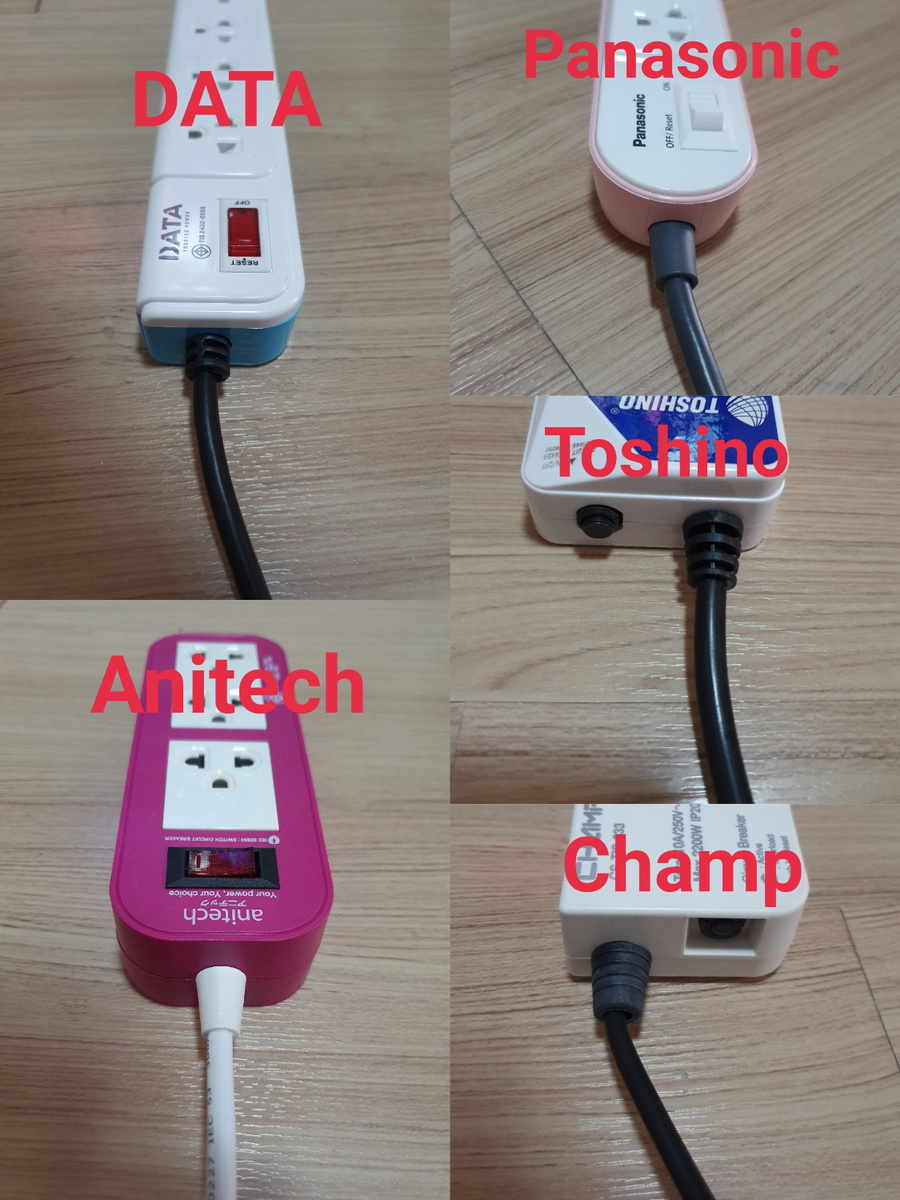Three_eye_plug: (72, 606, 347, 1035), (124, 1, 321, 381), (576, 1, 774, 272), (552, 806, 822, 1004), (522, 390, 803, 571)
